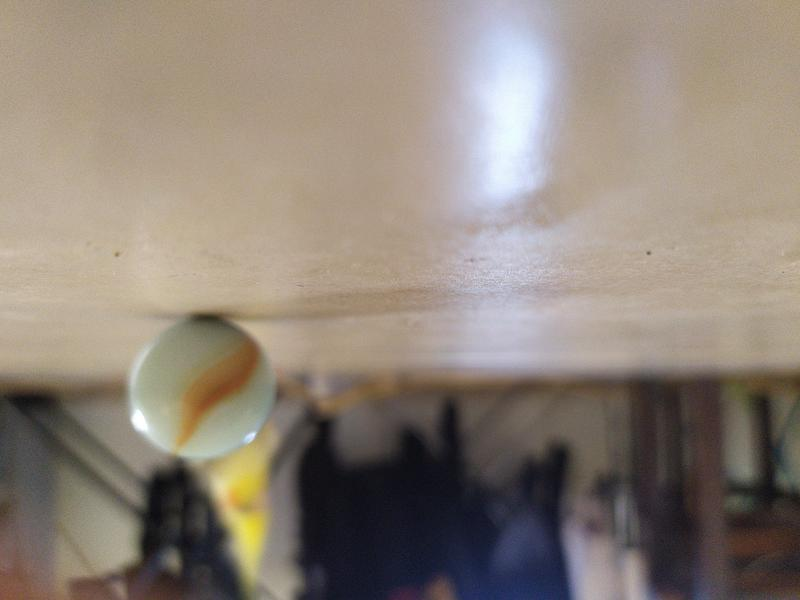Warning: (122, 310, 283, 464)
